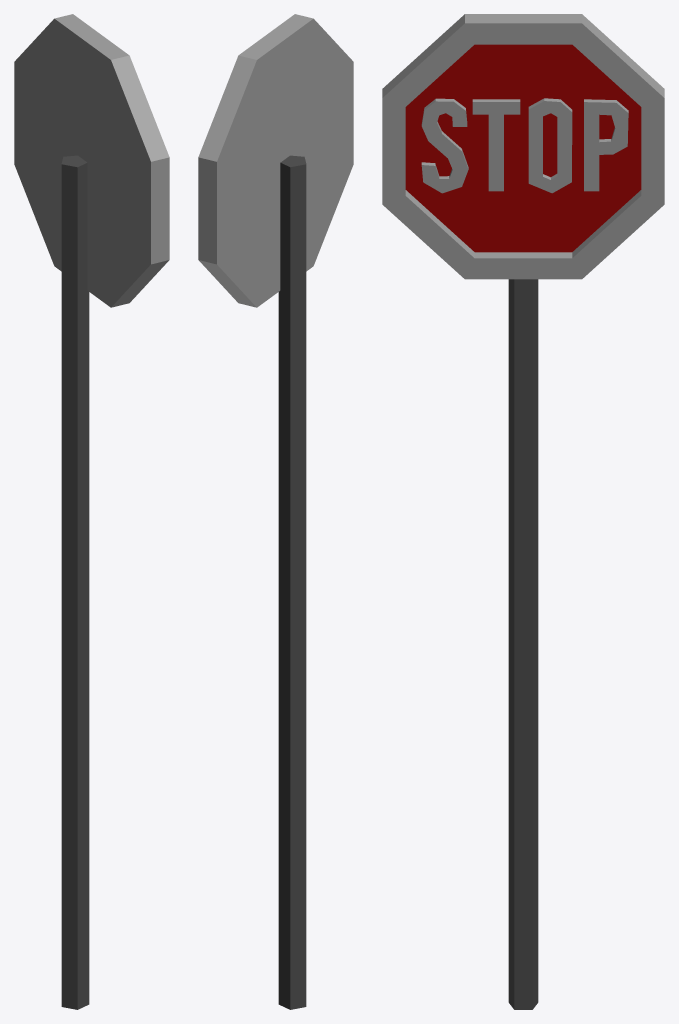
The model's file is Sign_Stop.glb.
The picture shows the model from 3 angles, left to right: view 1: azimuth 30°, elevation 25°; view 2: azimuth 150°, elevation 25°; view 3: azimuth 270°, elevation 25°; orthographic projection. The views are drawn at different scales.
Parts seen in each view (by area): view 1: Sign_Stop; view 2: Sign_Stop; view 3: Sign_Stop.
Part boxes in pixels (x1=…): Sign_Stop: x1=14, y1=14, x2=169, y2=1009; Sign_Stop: x1=198, y1=14, x2=353, y2=1009; Sign_Stop: x1=382, y1=14, x2=664, y2=1009.
Bounding box in the file's own units: 0.0233 × 0.5377 × 0.1384.
